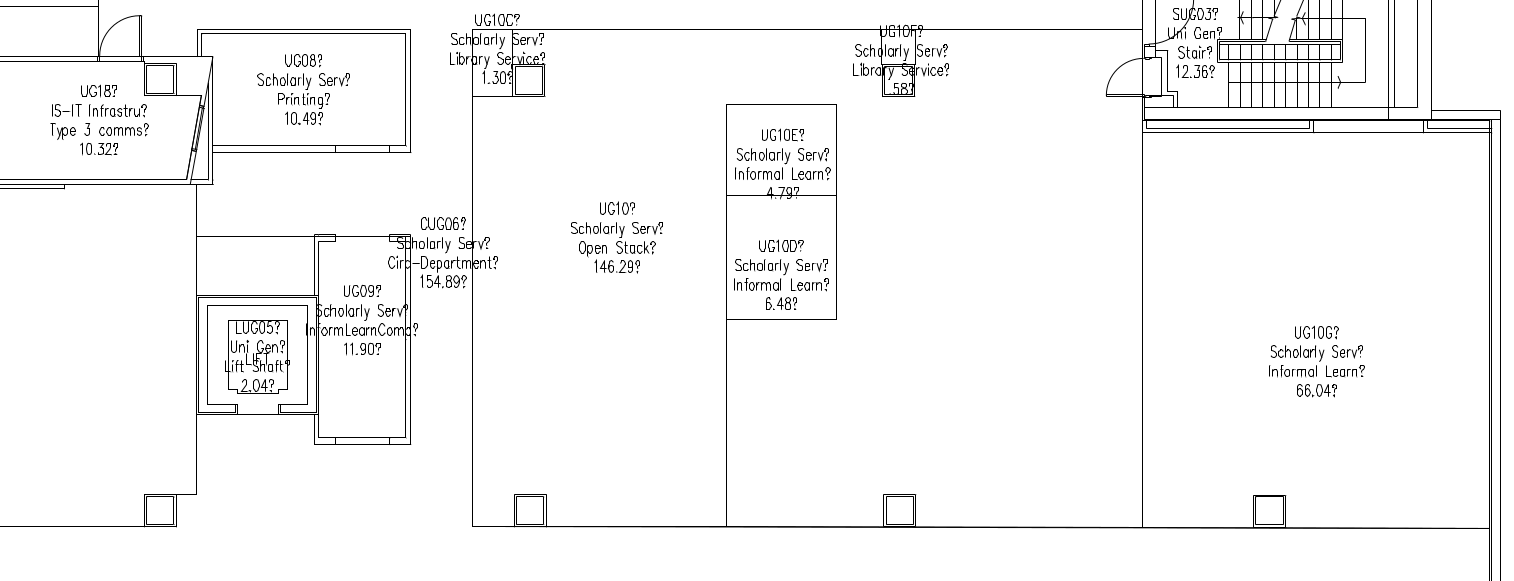door: (1082, 55, 1144, 113), (98, 1, 150, 59)
